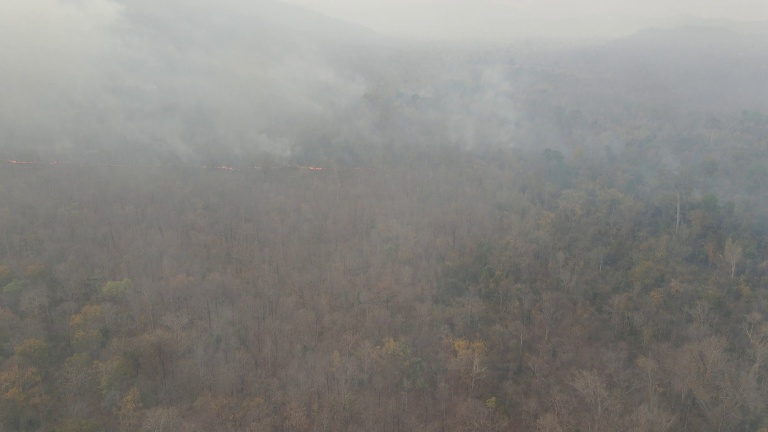fire: (1, 154, 338, 181)
smoke: (1, 1, 768, 188)
